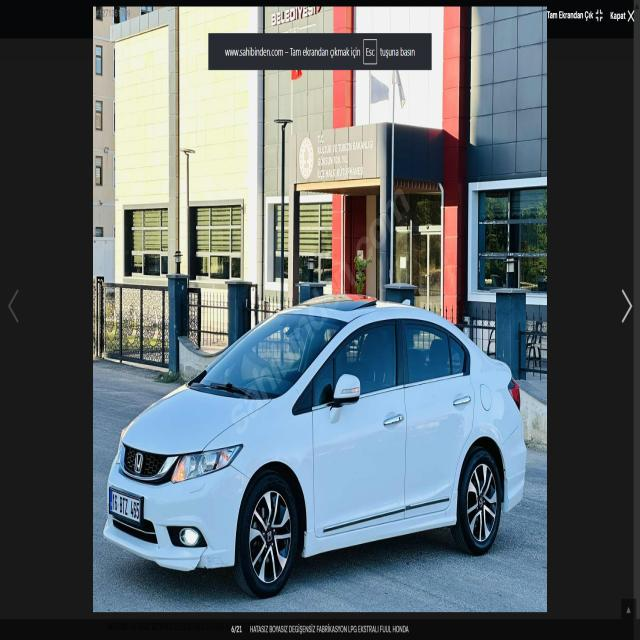honda: (129, 446, 150, 478)
